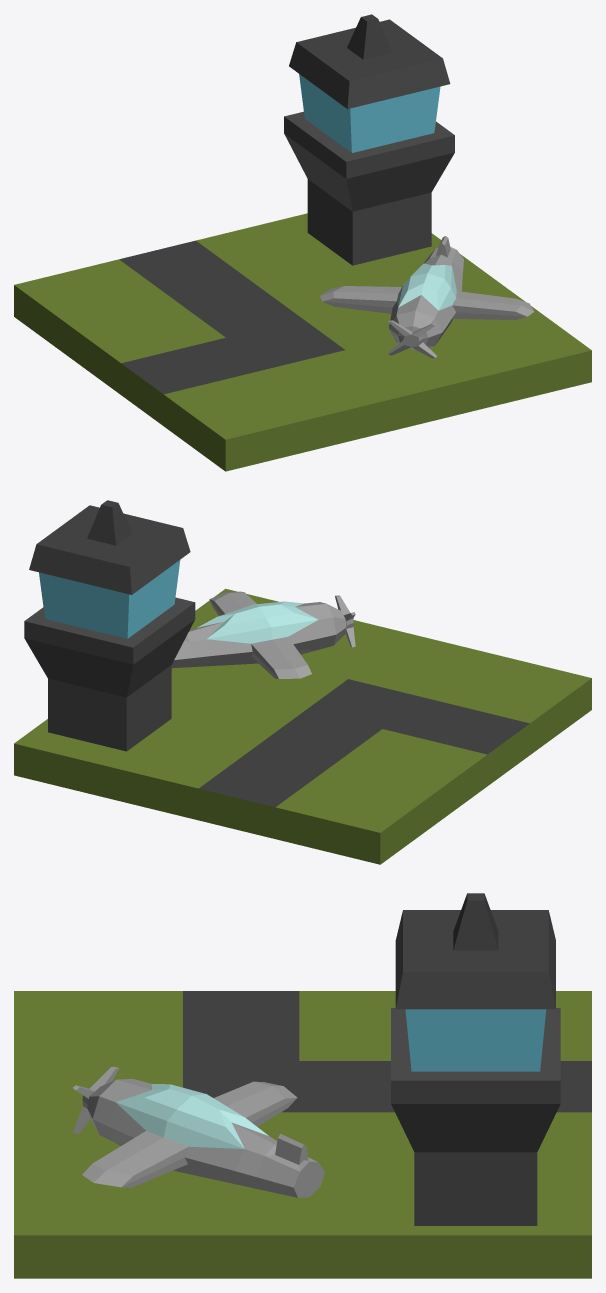
File: GoToJail.fbx
3 renders of one model, top to bottom at view 1: azimuth 30°, elevation 25°; view 2: azimuth 150°, elevation 25°; view 3: azimuth 270°, elevation 25°, orthographic. The views are drawn at different scales.
Visible parts, largest first — view 1: Plane.001; view 2: Plane.001; view 3: Plane.001.
Boxes of the visible parts, box(x1,y1,x2,y2) form: Plane.001: box(14, 14, 591, 471); Plane.001: box(14, 500, 591, 864); Plane.001: box(14, 893, 591, 1278).
Size of the model in its own units: 430 by 284 by 429.
